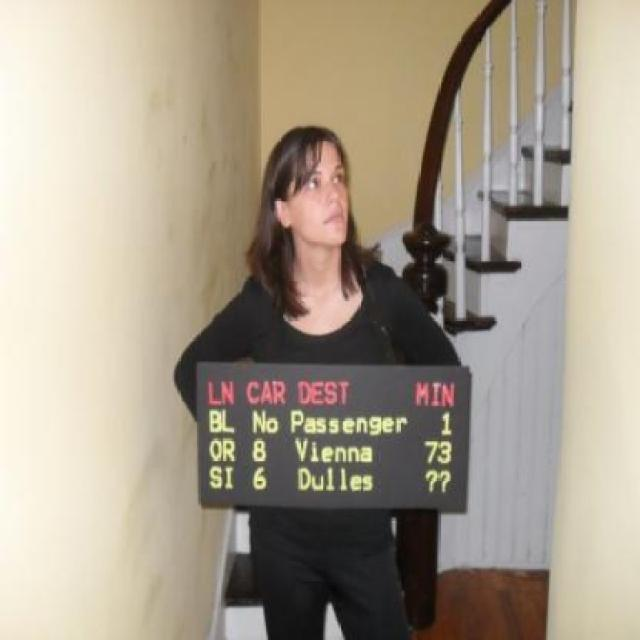stair: (208, 101, 574, 638)
